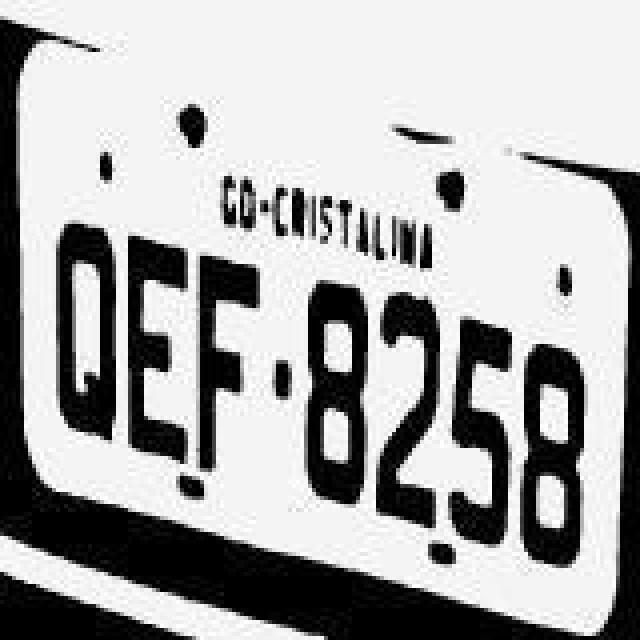2: (376, 290, 440, 526)
5: (450, 316, 518, 548)
8: (518, 344, 594, 568), (296, 278, 368, 506)
E: (116, 224, 188, 456)
F: (194, 252, 262, 476)
Q: (44, 212, 116, 428)
